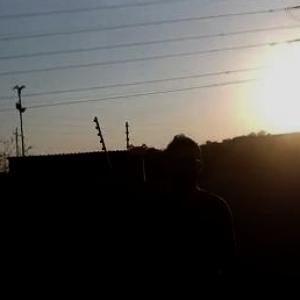follow: (138, 128, 243, 299)
